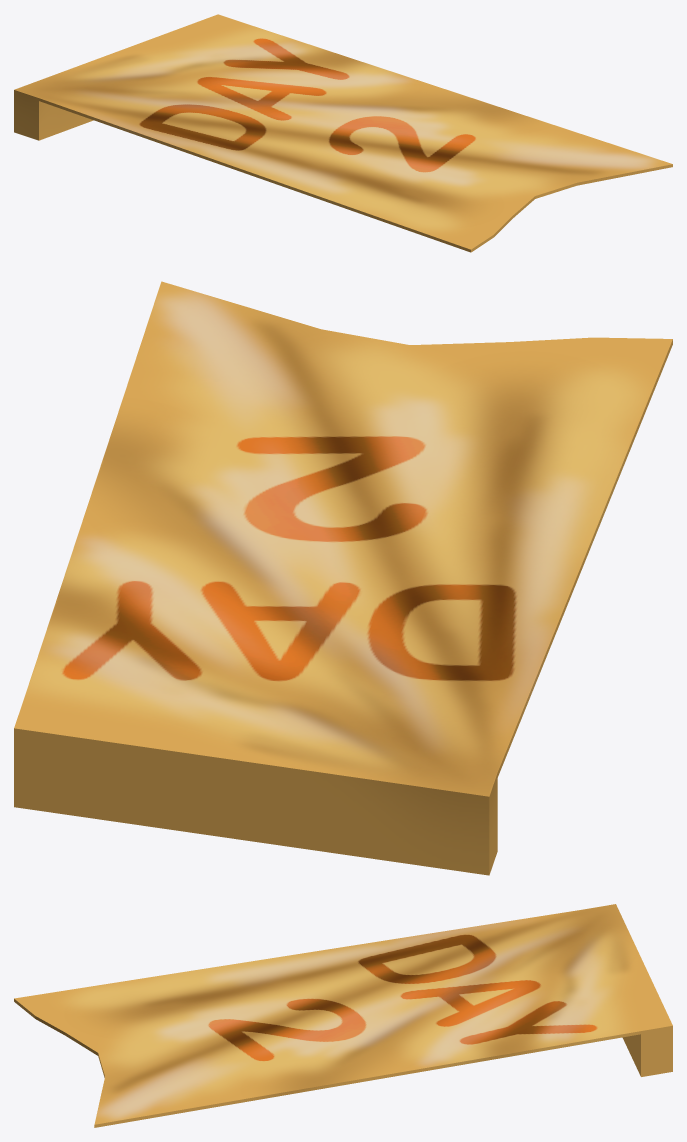
The model's file is level_select_bookmark_2.glb.
3 views of the same model, one above another, from view 1: azimuth 30°, elevation 25°; view 2: azimuth 150°, elevation 25°; view 3: azimuth 270°, elevation 25° (orthographic). The views are drawn at different scales.
Visible parts, largest first — view 1: Cube; view 2: Cube; view 3: Cube.
Part boxes in pixels (left/top/right/bottom): Cube: left=14, top=14, right=672, bottom=252; Cube: left=14, top=281, right=672, bottom=875; Cube: left=14, top=904, right=672, bottom=1127.
Size of the model in its own units: 0.6273 by 0.0611 by 0.7912.
1 material, 1 textured.
